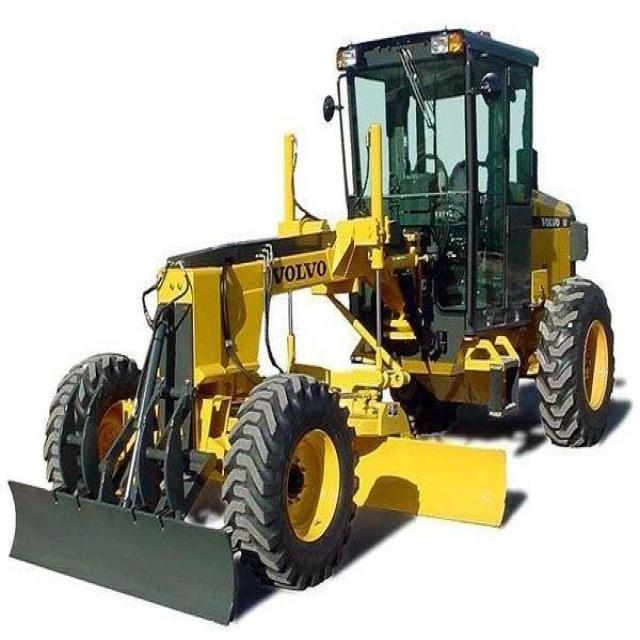buldozerpayloadergrader: (11, 18, 639, 602)
